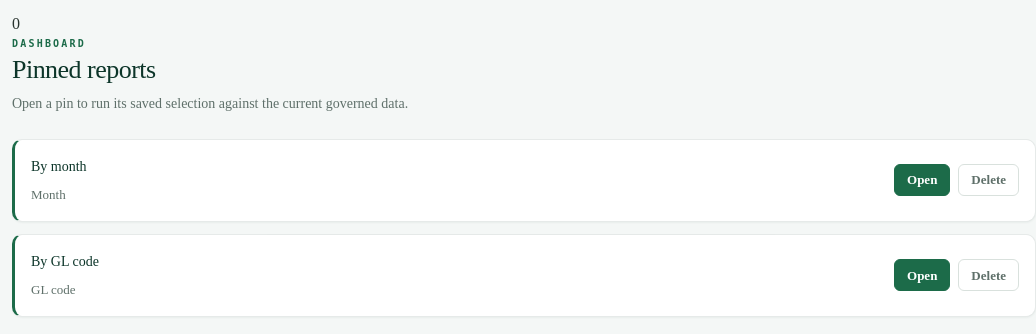
Test case: opening two reports that share a label title but differ produces two distinct turns
Expected: the heading "By month" is shown, [31, 156, 87, 177]
Step 1. Click the button "Open" in the row of "By month" → (922, 180), box [894, 164, 950, 196]
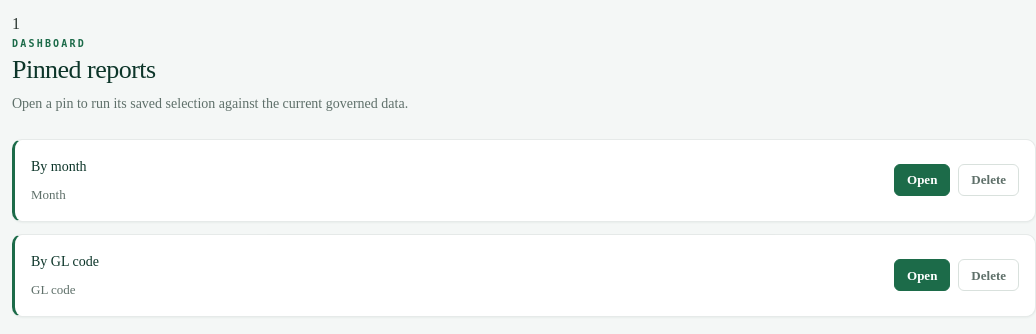
Expected: the text with test id "thread-length" reads "1", [12, 15, 20, 32]
Step 2. Click the button "Open" in the row of "By GL code" → (922, 275), box [894, 259, 950, 291]
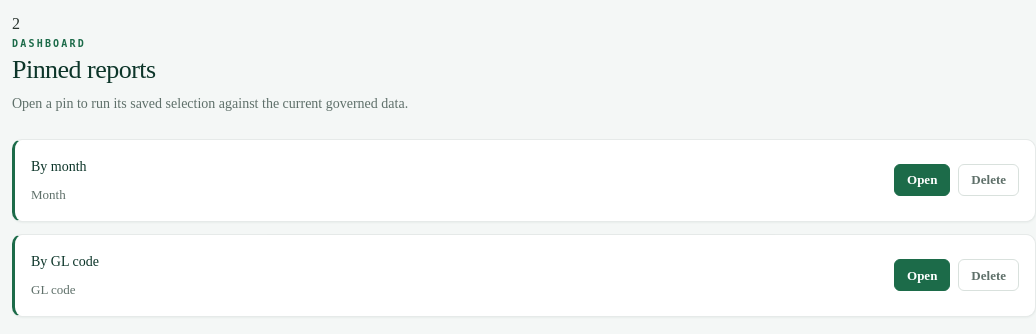
Expected: the text with test id "thread-length" reads "2", [12, 15, 20, 32]
